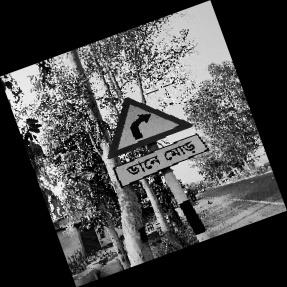Right-turn: (107, 97, 209, 189)
